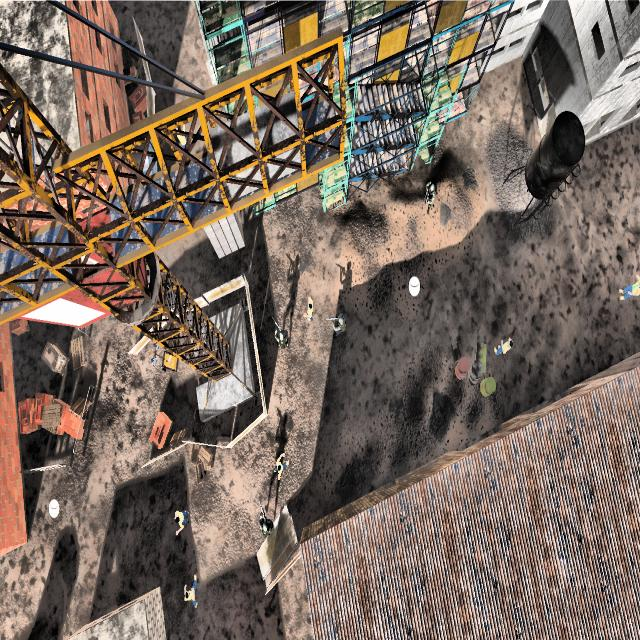bad: (271, 312, 296, 361), (330, 302, 352, 343), (253, 510, 279, 543), (420, 178, 440, 218)
good: (268, 446, 294, 486), (168, 501, 194, 538), (301, 284, 321, 331), (178, 577, 204, 613), (493, 327, 517, 363), (617, 274, 640, 310)
